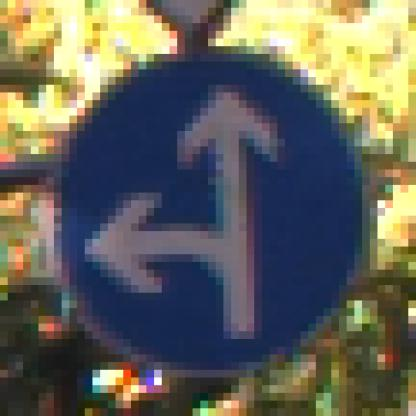Straight or Left: (39, 39, 371, 371)
